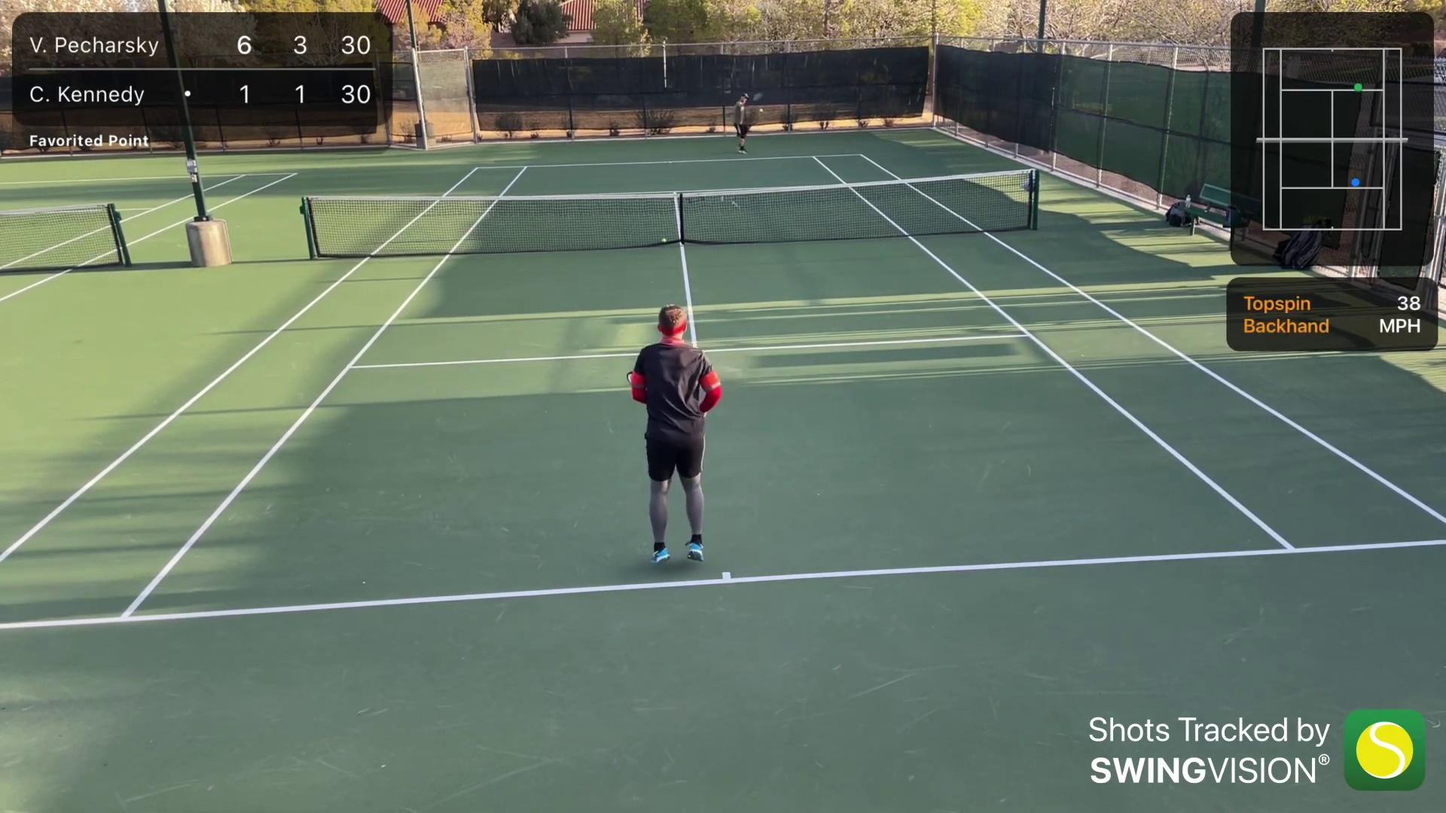ball: (660, 237, 669, 245), (757, 107, 763, 114)
